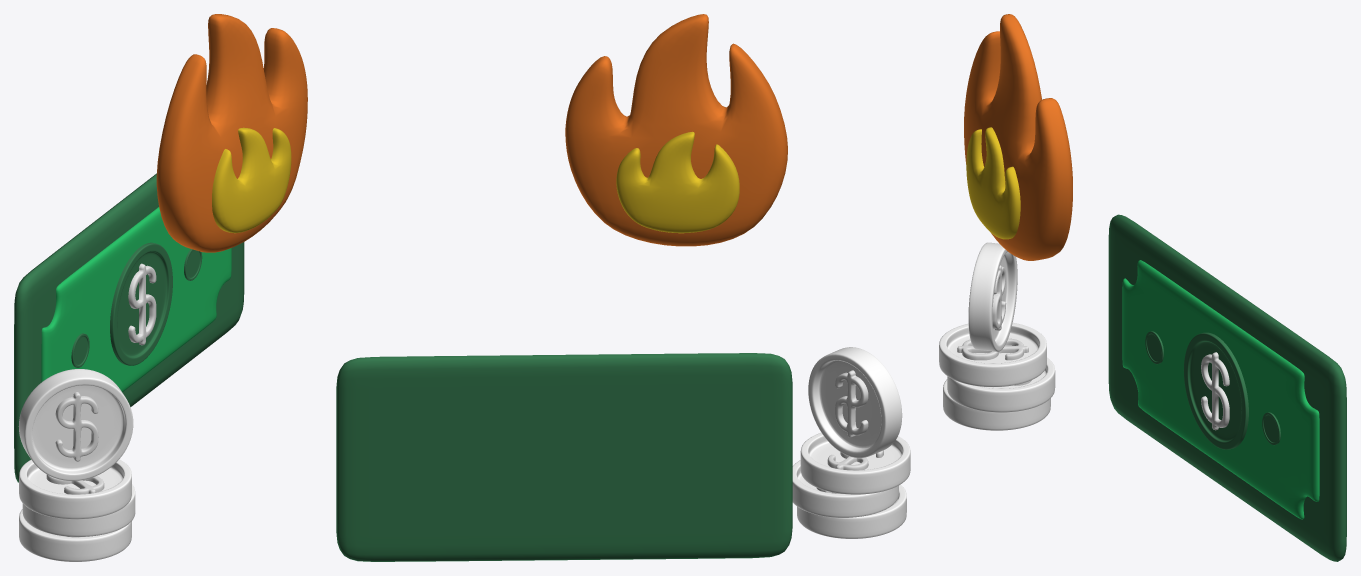
The model's file is burn-rate-3d-animated-icon-1294512451228.glb.
The picture shows the model from 3 angles, left to right: view 1: azimuth 30°, elevation 25°; view 2: azimuth 150°, elevation 25°; view 3: azimuth 270°, elevation 25°; orthographic projection. The views are drawn at different scales.
Visible parts, largest first — view 1: Plane.068, Plane.074, Cylinder.026, Cylinder.028, Cylinder.030, Cylinder.029; view 2: Plane.068, Plane.074, Cylinder.026, Cylinder.028, Cylinder.029, Cylinder.030; view 3: Plane.068, Plane.074, Cylinder.028, Cylinder.026, Cylinder.029, Cylinder.030.
Part boxes in pixels (x1,y1,x2,y2): Plane.068: (14,173,244,482); Plane.074: (156,14,307,252); Cylinder.026: (18,369,133,480); Cylinder.028: (19,459,131,519); Cylinder.030: (19,509,131,561); Cylinder.029: (22,484,135,536); Plane.068: (336,353,792,561); Plane.074: (565,14,787,246); Cylinder.026: (808,347,902,458); Cylinder.028: (800,432,910,494); Cylinder.029: (792,460,898,517); Cylinder.030: (797,484,906,538); Plane.068: (1108,214,1346,561); Plane.074: (964,14,1072,260); Cylinder.028: (939,322,1046,387); Cylinder.026: (968,242,1017,351); Cylinder.029: (947,357,1055,412); Cylinder.030: (943,379,1050,430).
Size of the model in its own units: 7.84 by 9.07 by 7.26.
